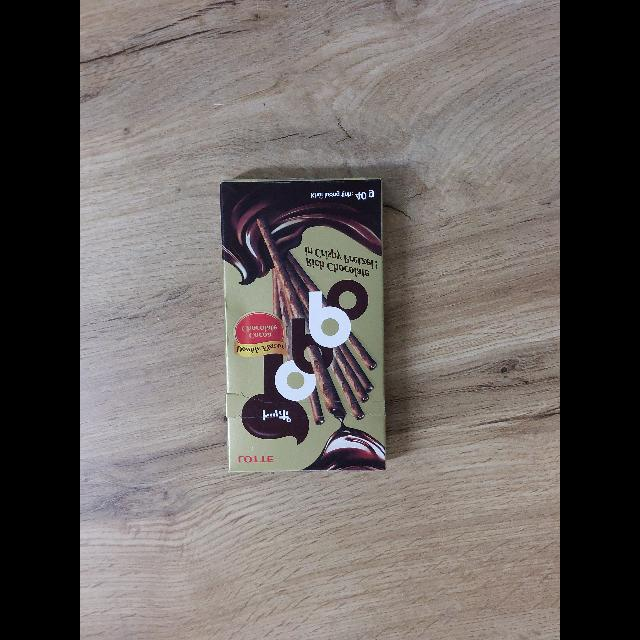banh_toppo_socola: (220, 177, 387, 474)
